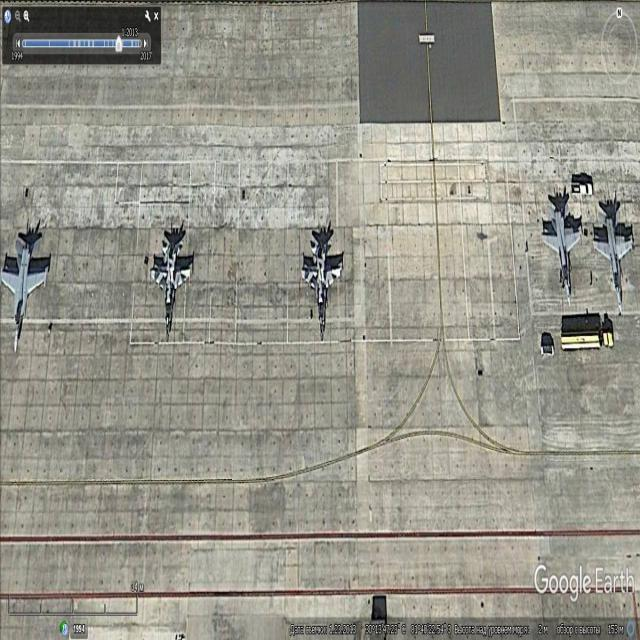MIL_Plane: (1, 239, 47, 354), (149, 240, 191, 344), (541, 203, 583, 307), (592, 210, 634, 314), (301, 239, 342, 342)
